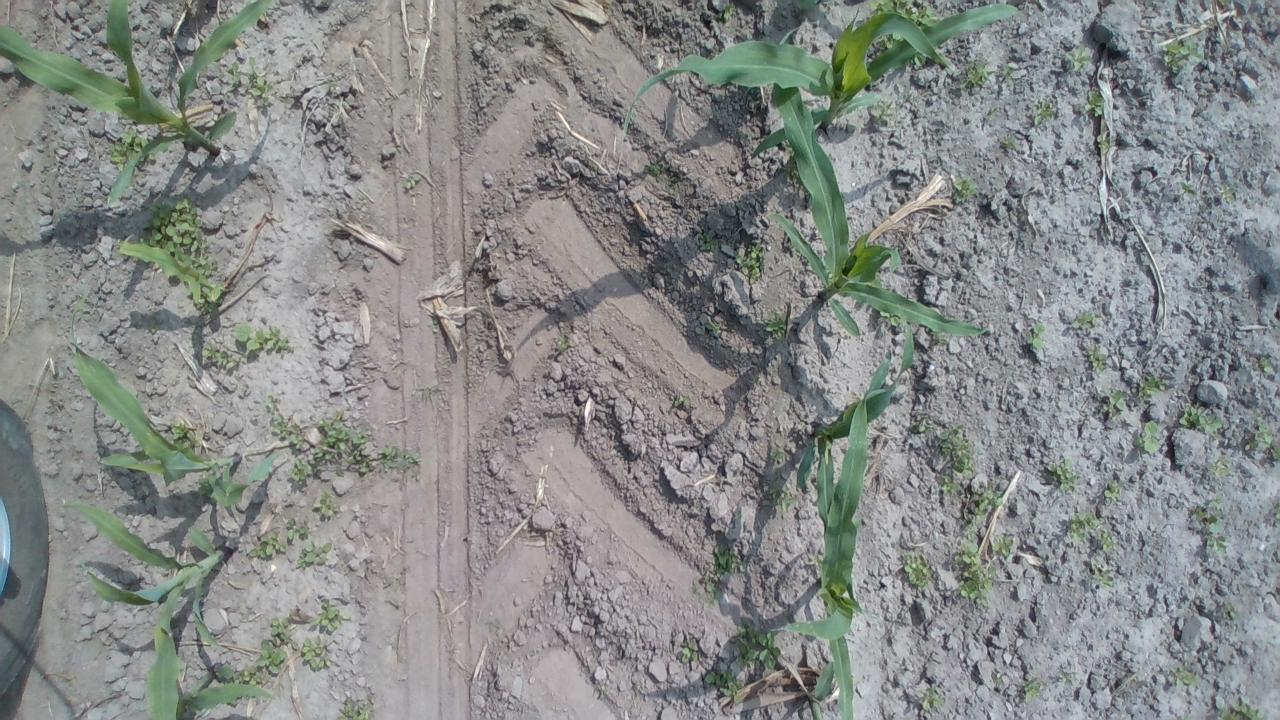Maize: (746, 69, 990, 364), (612, 0, 1024, 174), (0, 1, 286, 215), (62, 490, 280, 720), (62, 340, 300, 514), (768, 394, 876, 719), (806, 318, 920, 558)
Weeds: (273, 410, 422, 485), (144, 205, 225, 312), (196, 324, 296, 372), (691, 534, 751, 602), (866, 0, 945, 50), (732, 620, 782, 676), (954, 539, 994, 604), (726, 234, 771, 285), (107, 129, 164, 168), (1196, 496, 1230, 560), (208, 659, 266, 696), (935, 425, 976, 472), (222, 66, 275, 102), (758, 481, 802, 523), (641, 159, 690, 195), (1159, 34, 1203, 72), (1175, 402, 1224, 436), (1245, 416, 1280, 463), (307, 596, 348, 636), (703, 665, 748, 701), (169, 417, 210, 452), (254, 635, 288, 677), (909, 682, 955, 712), (242, 531, 286, 562), (753, 312, 796, 343), (899, 550, 935, 586), (1132, 418, 1166, 456), (1070, 86, 1106, 121), (298, 634, 333, 670), (958, 58, 992, 94), (948, 169, 980, 207), (1044, 458, 1078, 493), (1065, 508, 1100, 542), (1024, 94, 1058, 128), (1100, 386, 1130, 422), (1064, 42, 1093, 78), (312, 490, 341, 526), (293, 542, 334, 567), (996, 130, 1028, 162), (974, 482, 1004, 516), (864, 100, 902, 126), (335, 694, 374, 719), (1217, 698, 1261, 720), (1138, 368, 1166, 402), (1018, 674, 1052, 702), (698, 314, 729, 344), (1086, 558, 1116, 588), (1022, 320, 1048, 354), (991, 530, 1015, 566), (1073, 304, 1099, 334), (1100, 478, 1126, 508), (1175, 666, 1204, 692), (1086, 342, 1108, 376), (694, 226, 722, 252), (268, 615, 292, 644), (876, 306, 906, 329), (1206, 454, 1232, 480), (1178, 177, 1206, 201), (284, 516, 308, 543), (937, 474, 962, 499), (666, 392, 694, 414), (1056, 670, 1082, 692), (554, 331, 576, 357), (1097, 526, 1116, 556), (396, 171, 419, 195), (1096, 128, 1118, 153), (964, 513, 984, 538), (1218, 184, 1244, 203), (1001, 65, 1017, 93), (1222, 604, 1242, 625), (914, 414, 933, 436), (764, 447, 784, 466), (1256, 356, 1276, 375), (720, 3, 739, 22), (1267, 502, 1280, 528), (680, 646, 694, 668)
